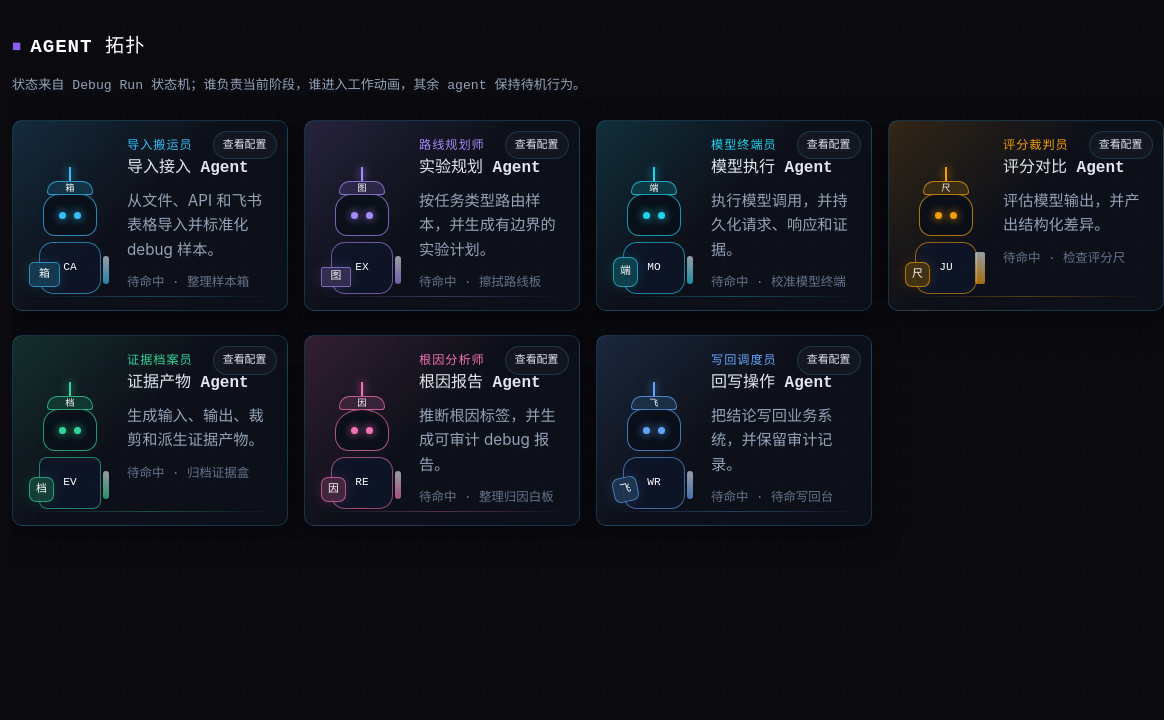
Test: AgentTopologyPanel › opens the configuration drawer for 根因报告 Agent
Click the button with aria-label "打开根因报告 Agent配置".
click(537, 360)  # box [505,346,569,374]
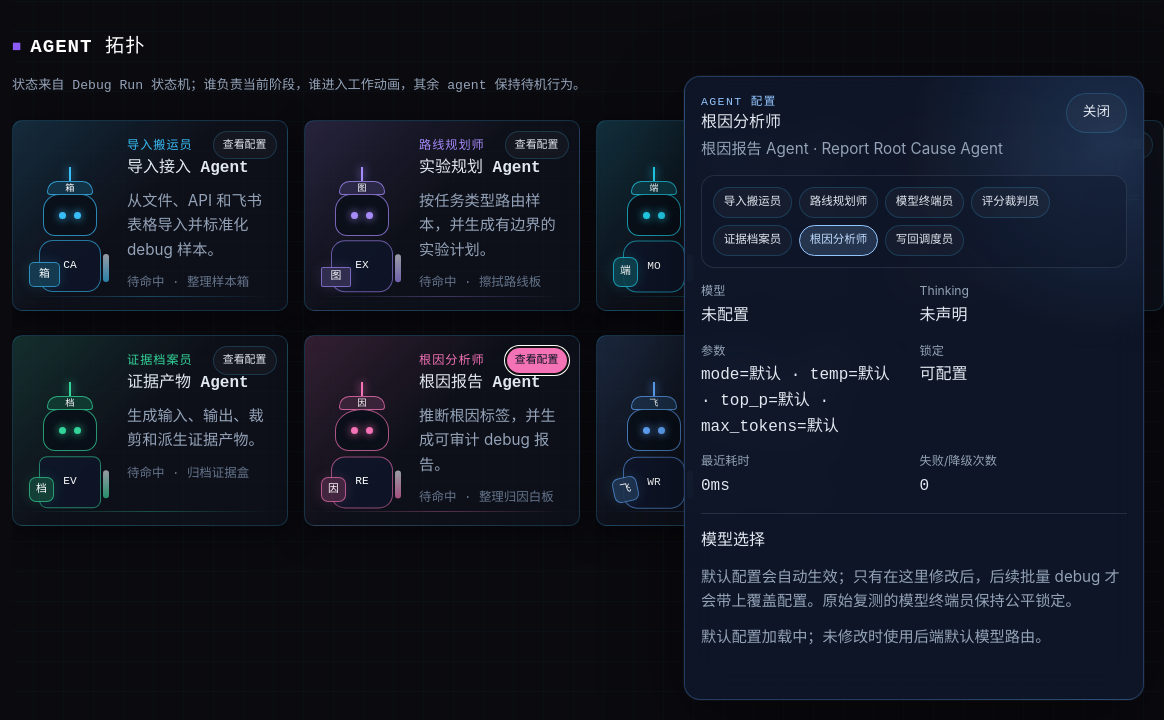
Check: the element named "Agent 配置抽屉" is shown, box [684,76,1144,700]
Check: the heading "根因分析师" is shown, box [701,114,781,132]
Check: the text "根因报告 Agent · Report Root Cause Agent" is shown, box [701,137,1003,161]
